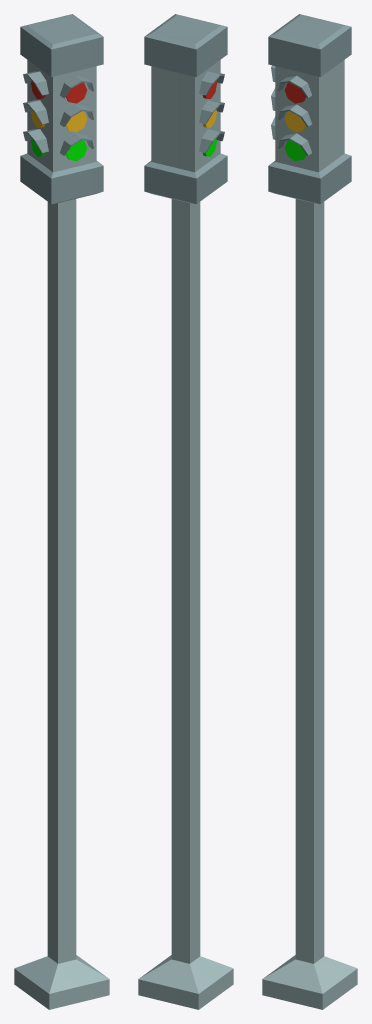
Rendered from trafficLights2.fbx.
3 views of the same model, side by side, from view 1: azimuth 30°, elevation 25°; view 2: azimuth 150°, elevation 25°; view 3: azimuth 330°, elevation 25° (orthographic).
Parts seen in each view (by area): view 1: Cube.001, Cylinder.004, Cylinder.002, Cylinder.003, Cylinder.005; view 2: Cube.001, Cylinder.004, Cylinder.005; view 3: Cube.001, Cylinder.002, Cylinder.003, Cylinder.004.
Part boxes in pixels (x1,y1,x2,y2): Cube.001: [14, 14, 109, 1009]; Cylinder.004: [23, 71, 48, 152]; Cylinder.002: [60, 75, 93, 155]; Cylinder.003: [66, 82, 87, 161]; Cylinder.005: [31, 81, 45, 156]; Cube.001: [138, 14, 233, 1009]; Cylinder.004: [199, 71, 224, 152]; Cylinder.005: [202, 81, 216, 156]; Cube.001: [262, 14, 357, 1009]; Cylinder.002: [278, 75, 311, 155]; Cylinder.003: [284, 82, 305, 161]; Cylinder.004: [271, 65, 275, 139].
Size of the model in its own units: 0.2112 by 3 by 0.2132.
1 material, 1 textured.
